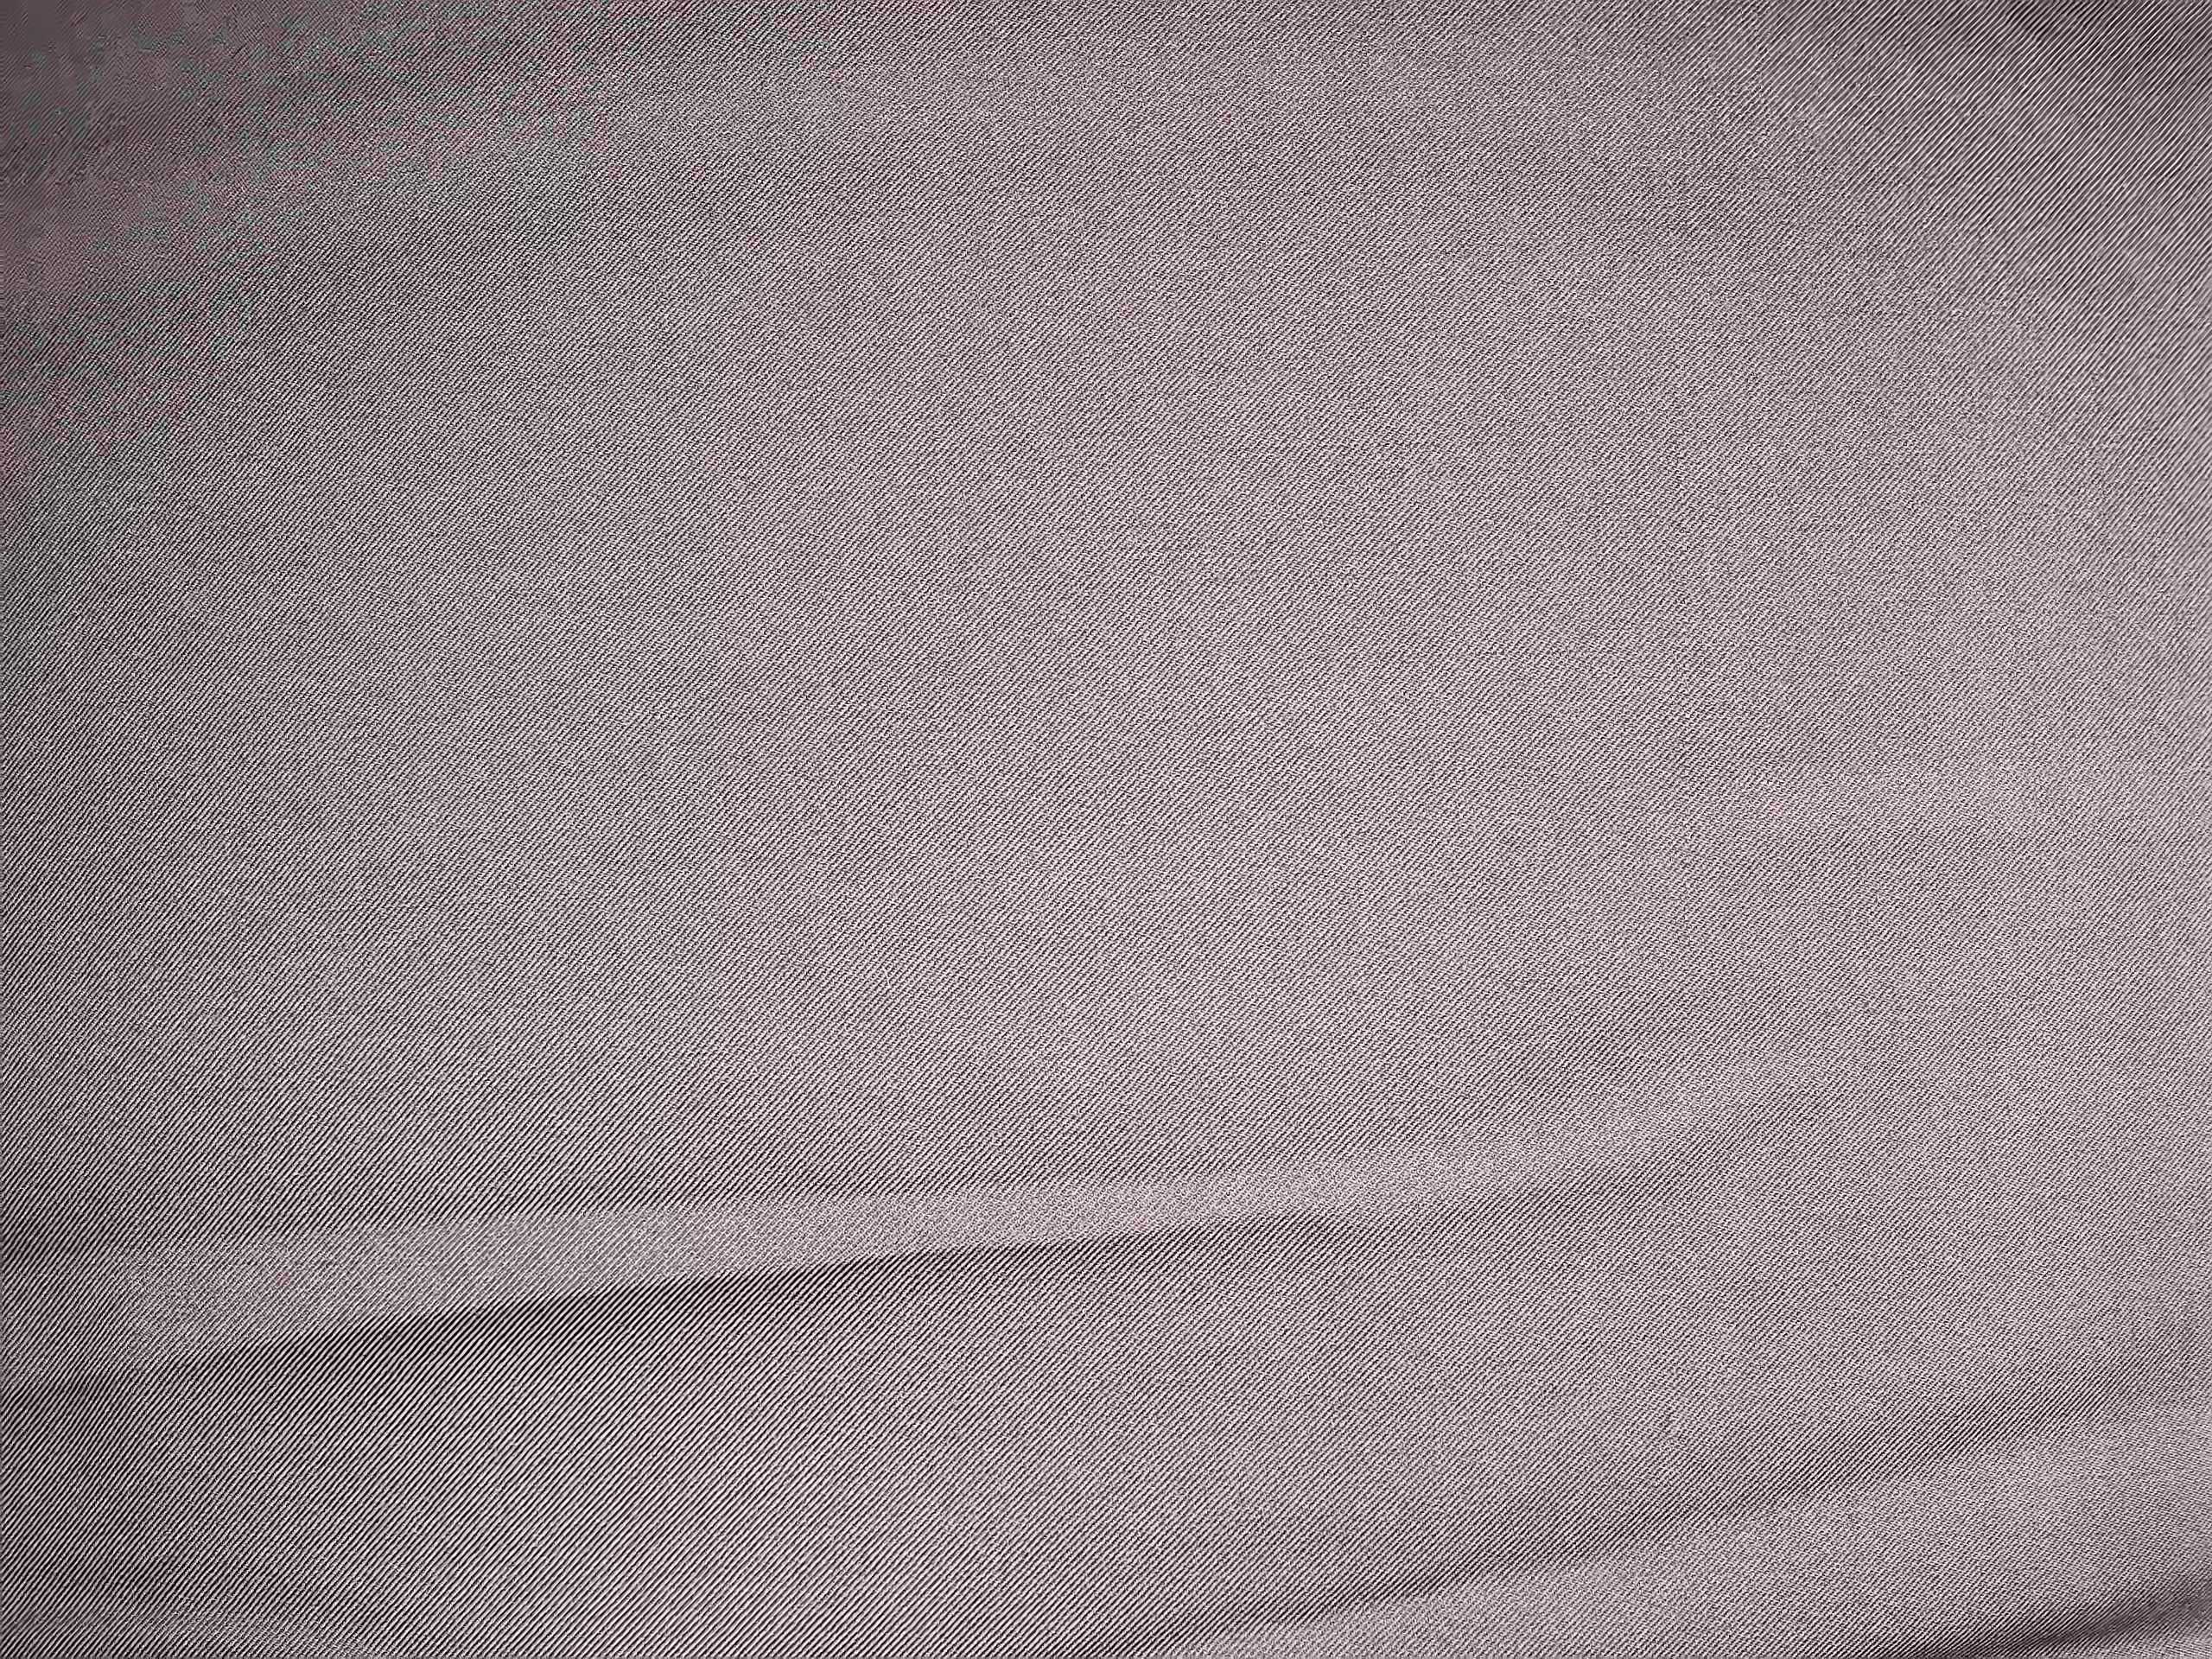others: (1653, 197, 1712, 992)
